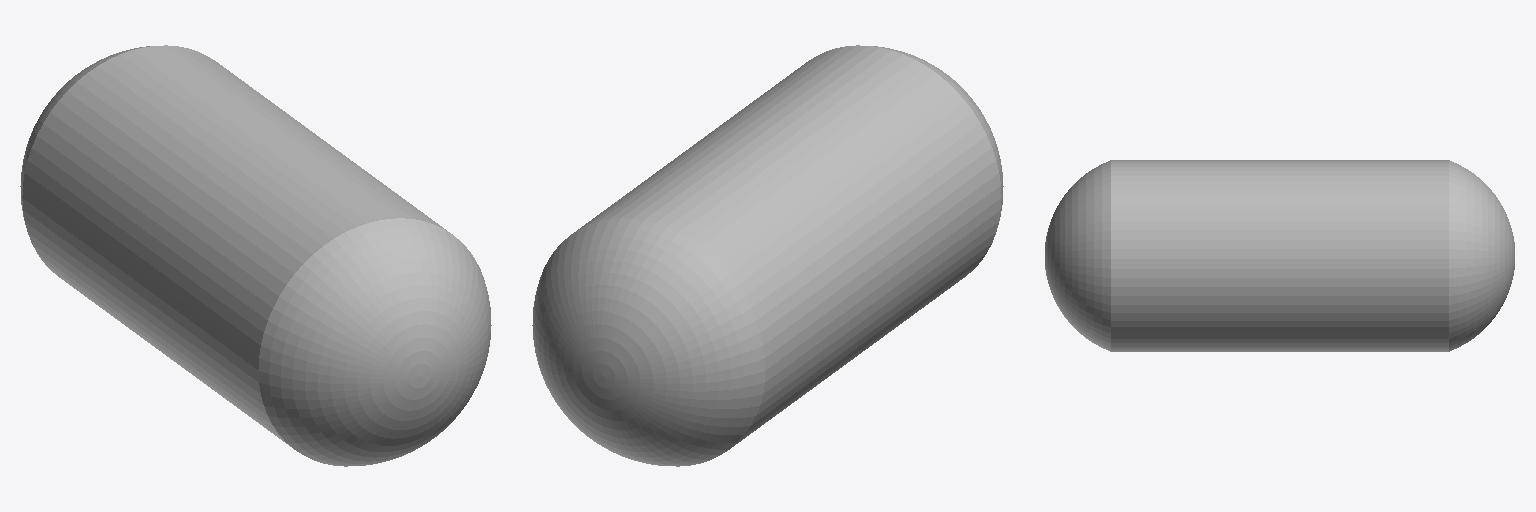
The robot description file, URDF, robot "mc_capsule":
<?xml version="1.0" encoding="utf-8"?>
<!-- This URDF was automatically created by SolidWorks to URDF Exporter! Originally created by [author] ([email redacted]) 
     Commit Version: 1.5.1-0-g916b5db  Build Version: 1.5.7152.31018
     For more information, please see http://wiki.ros.org/sw_urdf_exporter -->
<robot
  name="mc_capsule">
  <link
    name="base_link">
    <inertial>
      <origin
        xyz="0 0 0"
        rpy="0 0 0" />
      <mass
        value="0.004146" />
      <inertia
        ixx="2.4254E-07"
        ixy="0"
        ixz="0"
        iyy="2.4254E-07"
        iyz="0"
        izz="6.5903E-08" />
    </inertial>
    <visual>
      <origin
        xyz="0 0 0"
        rpy="0 0 0" />
      <geometry>
        <mesh
          filename="package://mc_capsule/meshes/base_link.dae" />
      </geometry>
      <material
        name="">
        <color
          rgba="0.75294 0.75294 0.75294 1" />
      </material>
    </visual>
    <collision>
      <origin
        xyz="0 0 0"
        rpy="0 0 0" />
      <geometry>
        <mesh
          filename="package://mc_capsule/meshes/base_link.obj" />
      </geometry>
    </collision>
  </link>
</robot>

--- What the picture shows (computed from the rendered views, not written in the file) ---
Views: 3 orthographic renders of the robot side by side, from view 1: azimuth 30°, elevation 25°; view 2: azimuth 150°, elevation 25°; view 3: azimuth 270°, elevation 25°.
Robot: mc_capsule — 1 links, 0 joints (none); root link base_link; default pose: every joint at zero.
Links seen in each view (by area): view 1: base_link; view 2: base_link; view 3: base_link.
Link boxes in pixels (x1,y1,x2,y2): base_link: (20, 45, 491, 466); base_link: (532, 45, 1003, 466); base_link: (1045, 160, 1514, 351).
Bounding box of the posed robot: 0.013 × 0.032 × 0.013 m (x, y, z).
1 mesh visuals loaded from 1 distinct referenced files (1 Collada DAE).